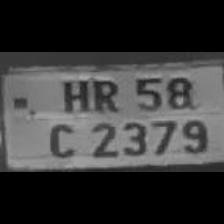2: (83, 118, 119, 158)
3: (118, 118, 148, 156)
5: (128, 72, 164, 111)
7: (148, 117, 176, 157)
8: (161, 72, 197, 110)
9: (177, 114, 209, 154)
C: (42, 118, 79, 158)
H: (55, 74, 91, 114)
R: (88, 74, 122, 114)
